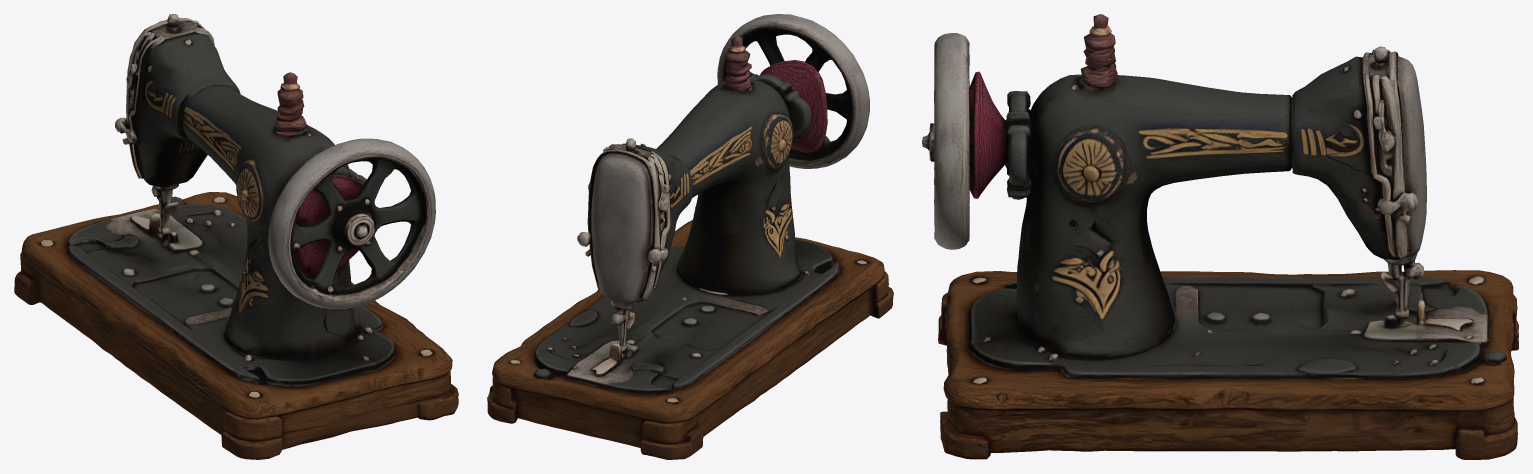
Rendered from scene-sewing-machine-v03.glb.
3 renders of one model, left to right at view 1: azimuth 30°, elevation 25°; view 2: azimuth 150°, elevation 25°; view 3: azimuth 270°, elevation 25°, orthographic. The views are drawn at different scales.
Parts seen in each view (by area): view 1: tripo_node_cfc57ba3-061a-4ea9-98b1-65e5be22dbd4; view 2: tripo_node_cfc57ba3-061a-4ea9-98b1-65e5be22dbd4; view 3: tripo_node_cfc57ba3-061a-4ea9-98b1-65e5be22dbd4.
Boxes of the visible parts, left/top/right/bottom form: tripo_node_cfc57ba3-061a-4ea9-98b1-65e5be22dbd4: left=14, top=14, right=458, bottom=459; tripo_node_cfc57ba3-061a-4ea9-98b1-65e5be22dbd4: left=487, top=14, right=893, bottom=459; tripo_node_cfc57ba3-061a-4ea9-98b1-65e5be22dbd4: left=922, top=14, right=1518, bottom=459.
Bounding box in the file's own units: 0.2596 × 0.35 × 0.4956.
Materials: 1 (1 with a texture image).
